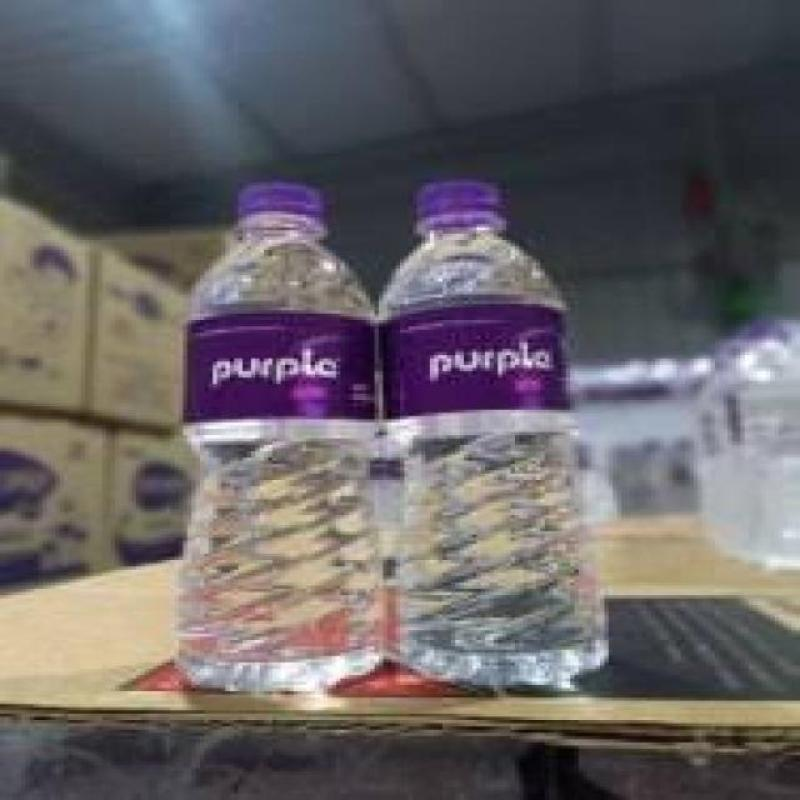botella: (379, 181, 609, 683), (170, 186, 391, 688)
